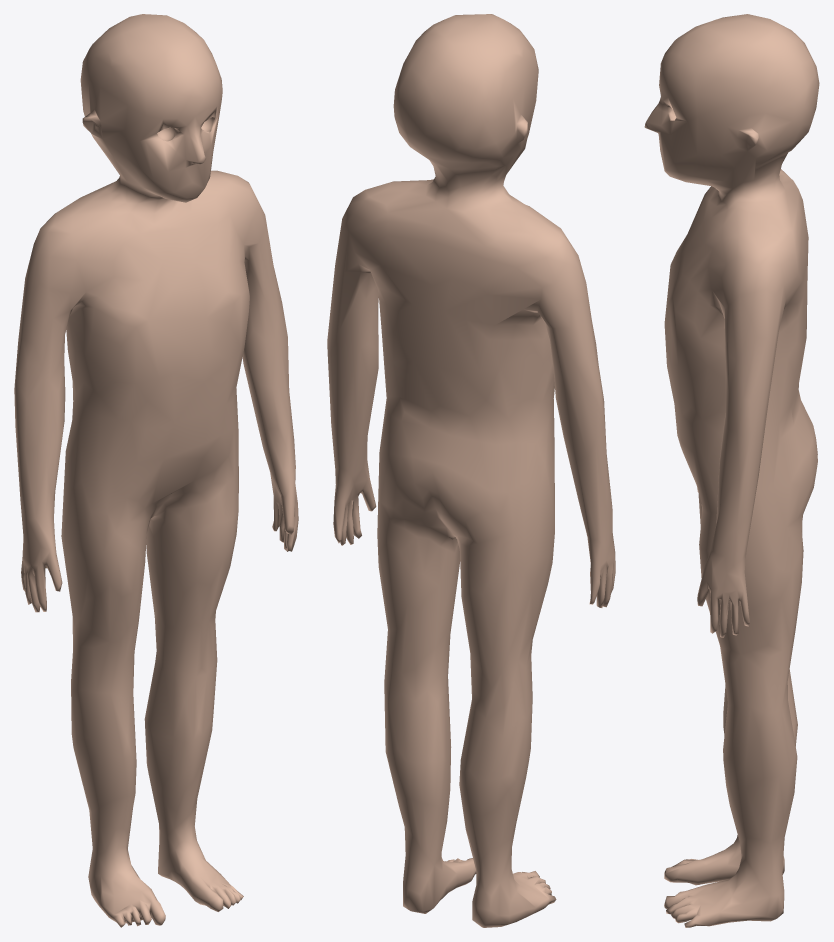
The model's file is pediatric_child_5y_female.surface.LOD3.glb.
3 views of the same model, side by side, from view 1: azimuth 30°, elevation 25°; view 2: azimuth 150°, elevation 25°; view 3: azimuth 270°, elevation 25° (orthographic).
Visible parts, largest first — view 1: PEDIATRIC.CHILD_5Y.FEMALE.SURFACE.SKIN; view 2: PEDIATRIC.CHILD_5Y.FEMALE.SURFACE.SKIN; view 3: PEDIATRIC.CHILD_5Y.FEMALE.SURFACE.SKIN.
Boxes of the visible parts, <box> form: PEDIATRIC.CHILD_5Y.FEMALE.SURFACE.SKIN: <box>14,14,298,927</box>; PEDIATRIC.CHILD_5Y.FEMALE.SURFACE.SKIN: <box>327,14,615,927</box>; PEDIATRIC.CHILD_5Y.FEMALE.SURFACE.SKIN: <box>644,14,819,927</box>.
Size of the model in its own units: 0.3537 by 1.09 by 0.1976.
